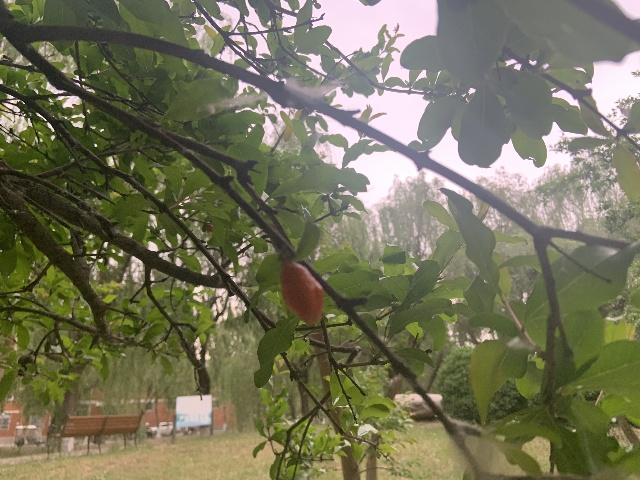bud: (280, 259, 324, 326)
